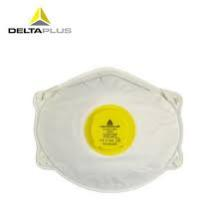mask: (31, 55, 187, 198)
